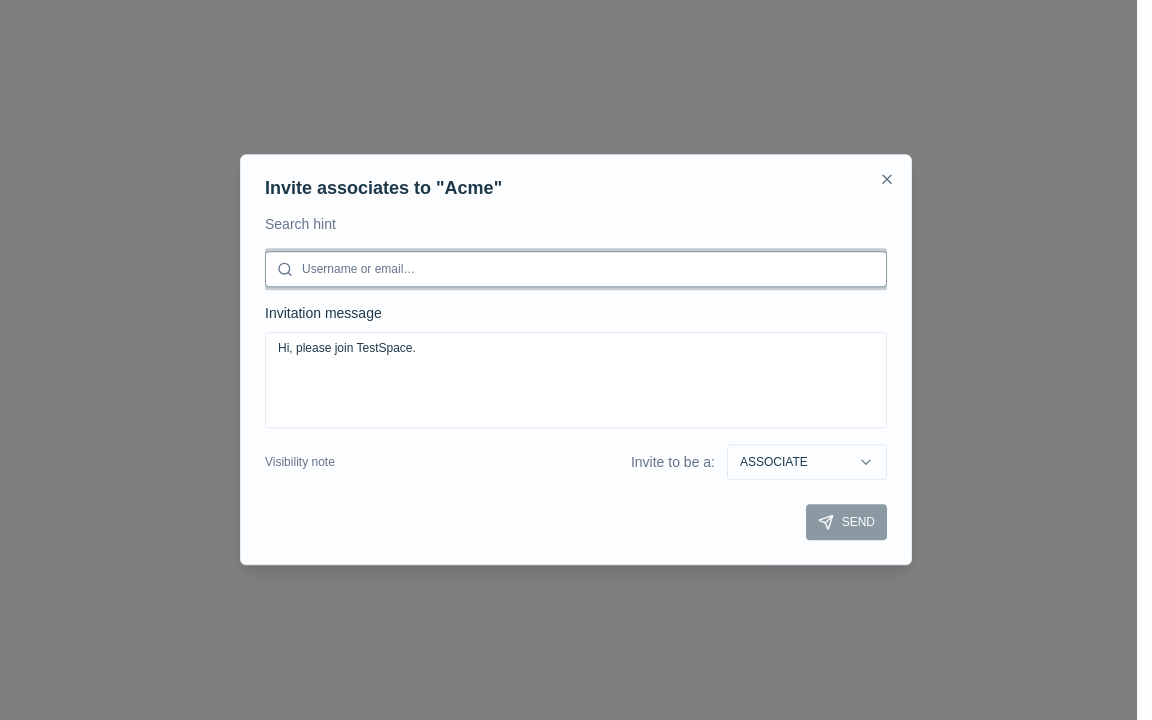
Test: InviteMembersDialog — organization target (062, T007) › Associate is locked and the role picker offers Admin/Owner as extras
Click the button with aria-label "Choose roles". click: (807, 463)
box: [727,445,887,481]
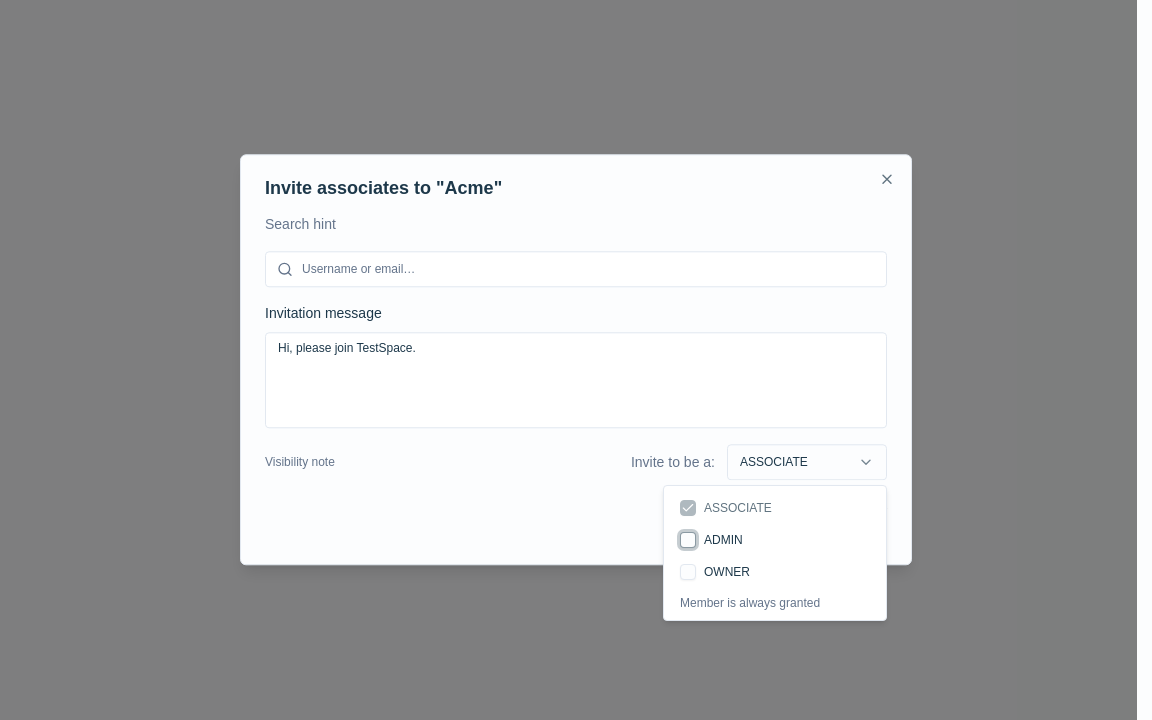
Expected: the text "Associate" next to "Invite to be a:" is shown, [740,455,808,469]
Expected: the text "Admin" is shown, [704,532,743,548]
Expected: the text "Owner" is shown, [704,564,750,580]
